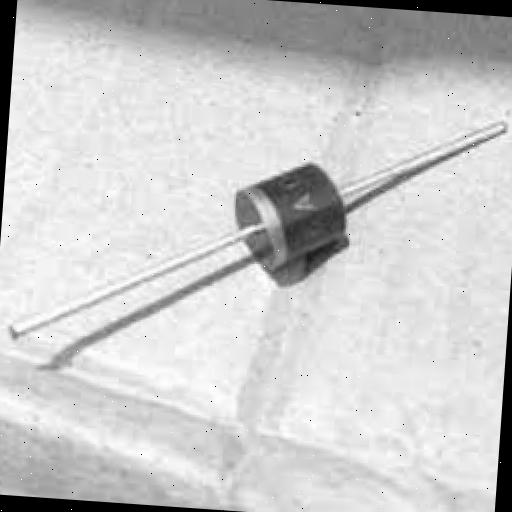DIODE: (3, 81, 509, 401)
